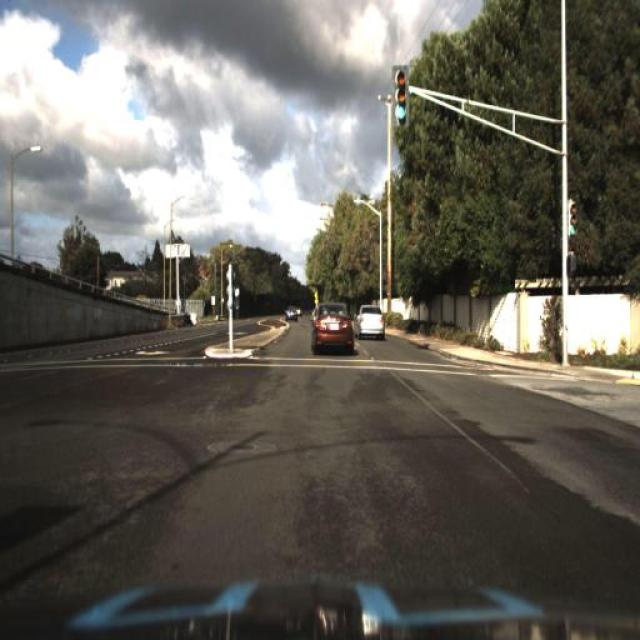car: (302, 290, 354, 360), (354, 302, 384, 341), (285, 302, 301, 326)
trafficLight-GreenLeft: (394, 64, 408, 126)
